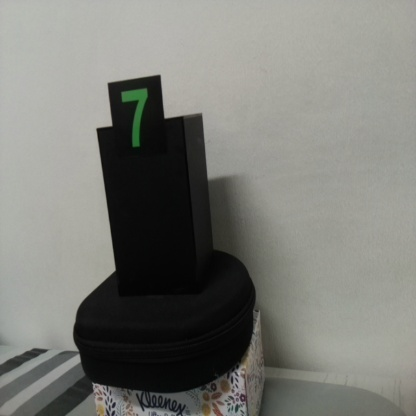id_7: (108, 80, 165, 176)
